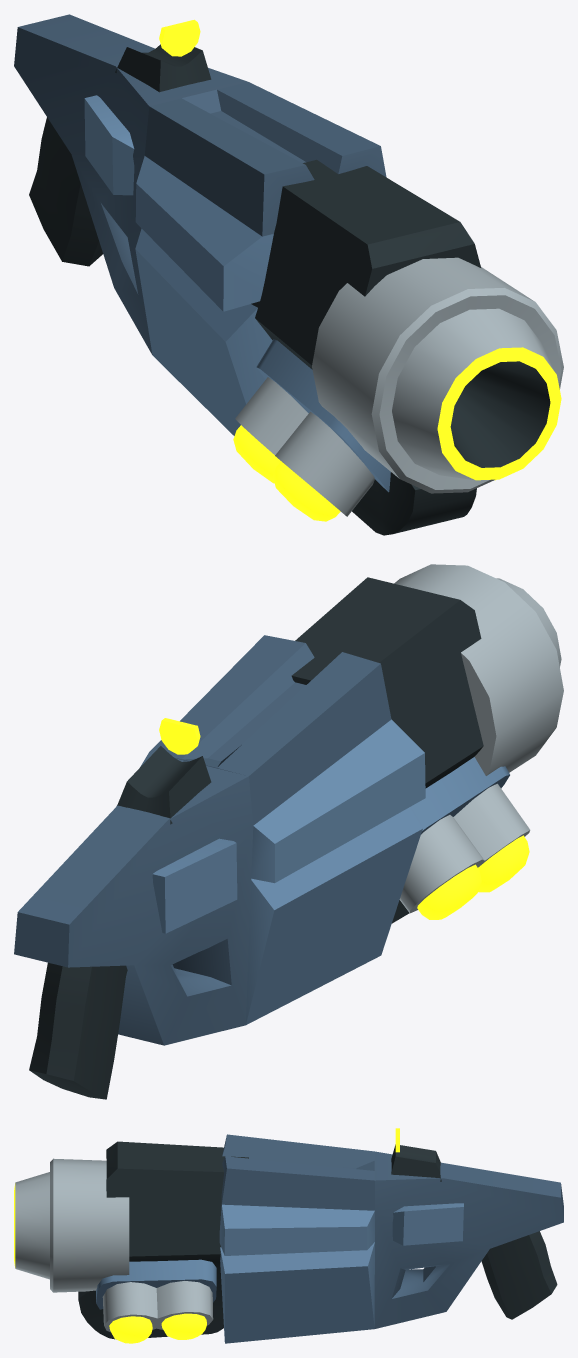
File: spaceSoldierBlaster.gltf.glb
The picture shows the model from 3 angles, top to bottom: view 1: azimuth 30°, elevation 25°; view 2: azimuth 150°, elevation 25°; view 3: azimuth 270°, elevation 25°; orthographic projection. The views are drawn at different scales.
Parts seen in each view (by area): view 1: spaceSoldierBlaster; view 2: spaceSoldierBlaster; view 3: spaceSoldierBlaster.
Boxes of the visible parts, x1,y1,x2,y2 form: spaceSoldierBlaster: (14,14,563,535); spaceSoldierBlaster: (14,564,563,1099); spaceSoldierBlaster: (14,1128,563,1343).
Bounding box in the file's own units: 0.3649 × 0.463 × 1.18.
